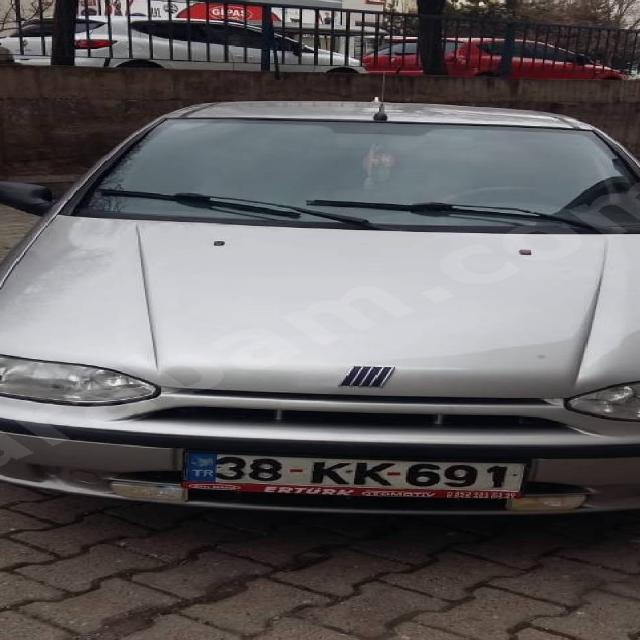license_plate: (181, 451, 528, 492)
